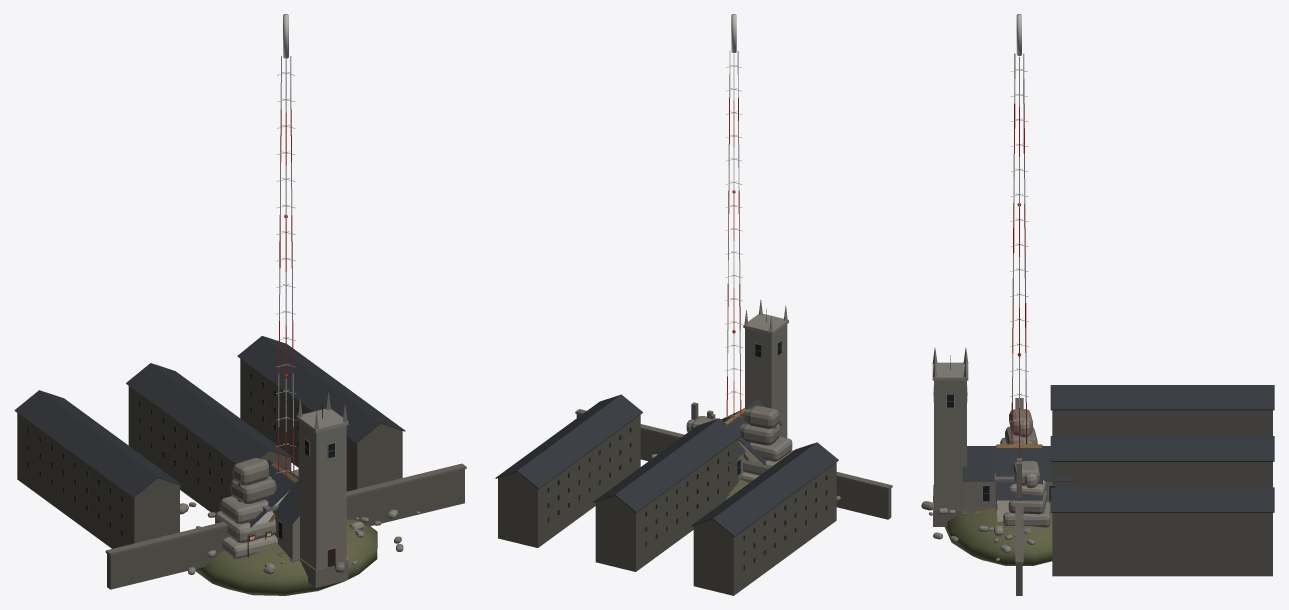
The model's file is props_dartmoor.glb.
3 views of the same model, side by side, from view 1: azimuth 30°, elevation 25°; view 2: azimuth 150°, elevation 25°; view 3: azimuth 270°, elevation 25° (orthographic). The views are drawn at different scales.
Visible parts, largest first — view 1: prison, tor_big, church_uk, mast, inn; view 2: prison, church_uk, tor_big, mast, inn; view 3: prison, church_uk, tor_big, mast, inn.
Part boxes in pixels (x1,y1,x2,y2): prison: (14,336,466,589); tor_big: (180,458,420,595); church_uk: (230,392,348,587); mast: (275,14,296,478); inn: (237,463,298,557); prison: (495,394,892,595); church_uk: (727,299,788,495); tor_big: (651,405,840,500); mast: (725,14,742,421); inn: (691,402,776,475); prison: (994,385,1274,595); church_uk: (932,348,1076,526); tor_big: (921,409,1052,565); mast: (1008,14,1028,511); inn: (973,445,1042,521).
Size of the model in its own units: 70.4 by 107 by 64.08.
